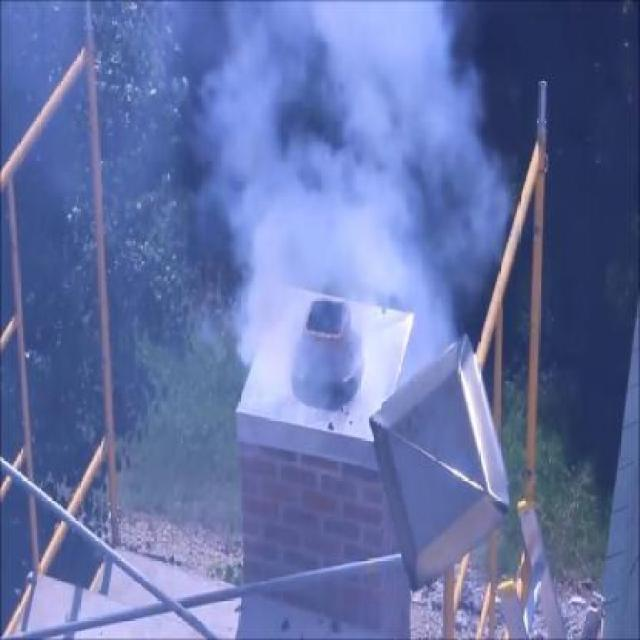smoke: (232, 21, 483, 287)
